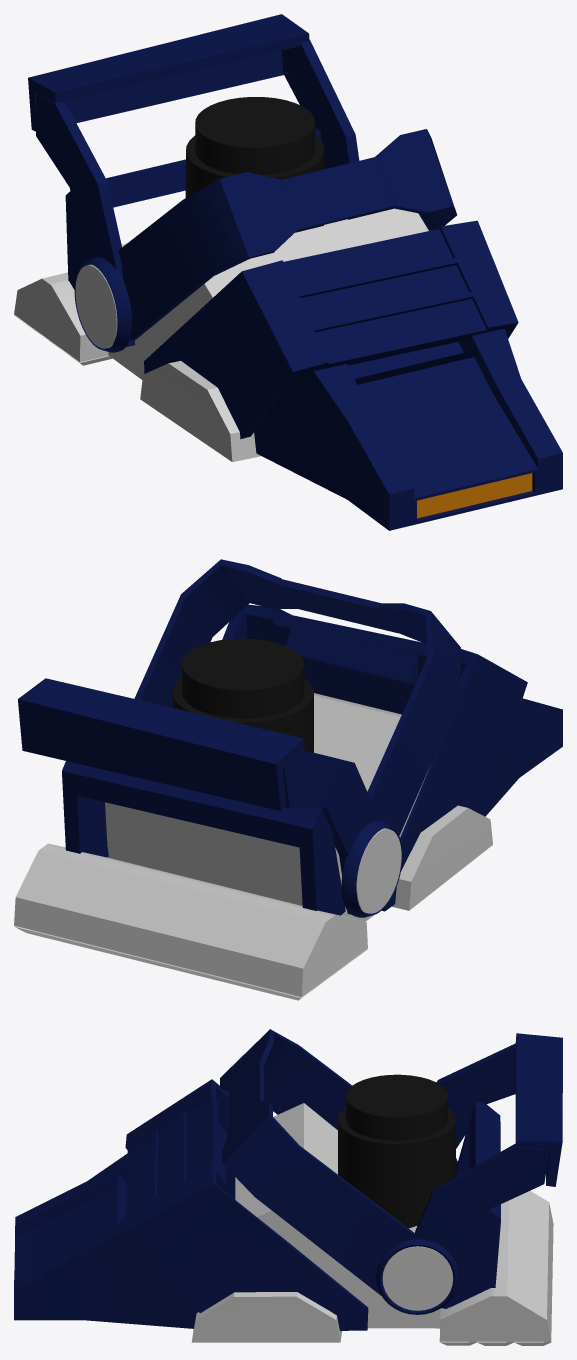
Rendered from l_feet.obj.
The picture shows the model from 3 angles, top to bottom: view 1: azimuth 30°, elevation 25°; view 2: azimuth 150°, elevation 25°; view 3: azimuth 270°, elevation 25°; orthographic projection. The views are drawn at different scales.
Parts seen in each view (by area): view 1: l_feet; view 2: l_feet; view 3: l_feet.
Part boxes in pixels (bbox=[...]): l_feet: bbox=[14, 14, 562, 530]; l_feet: bbox=[14, 559, 562, 1000]; l_feet: bbox=[14, 1029, 562, 1345].
Bounding box in the file's own units: 0.8329 × 0.7164 × 1.63.
